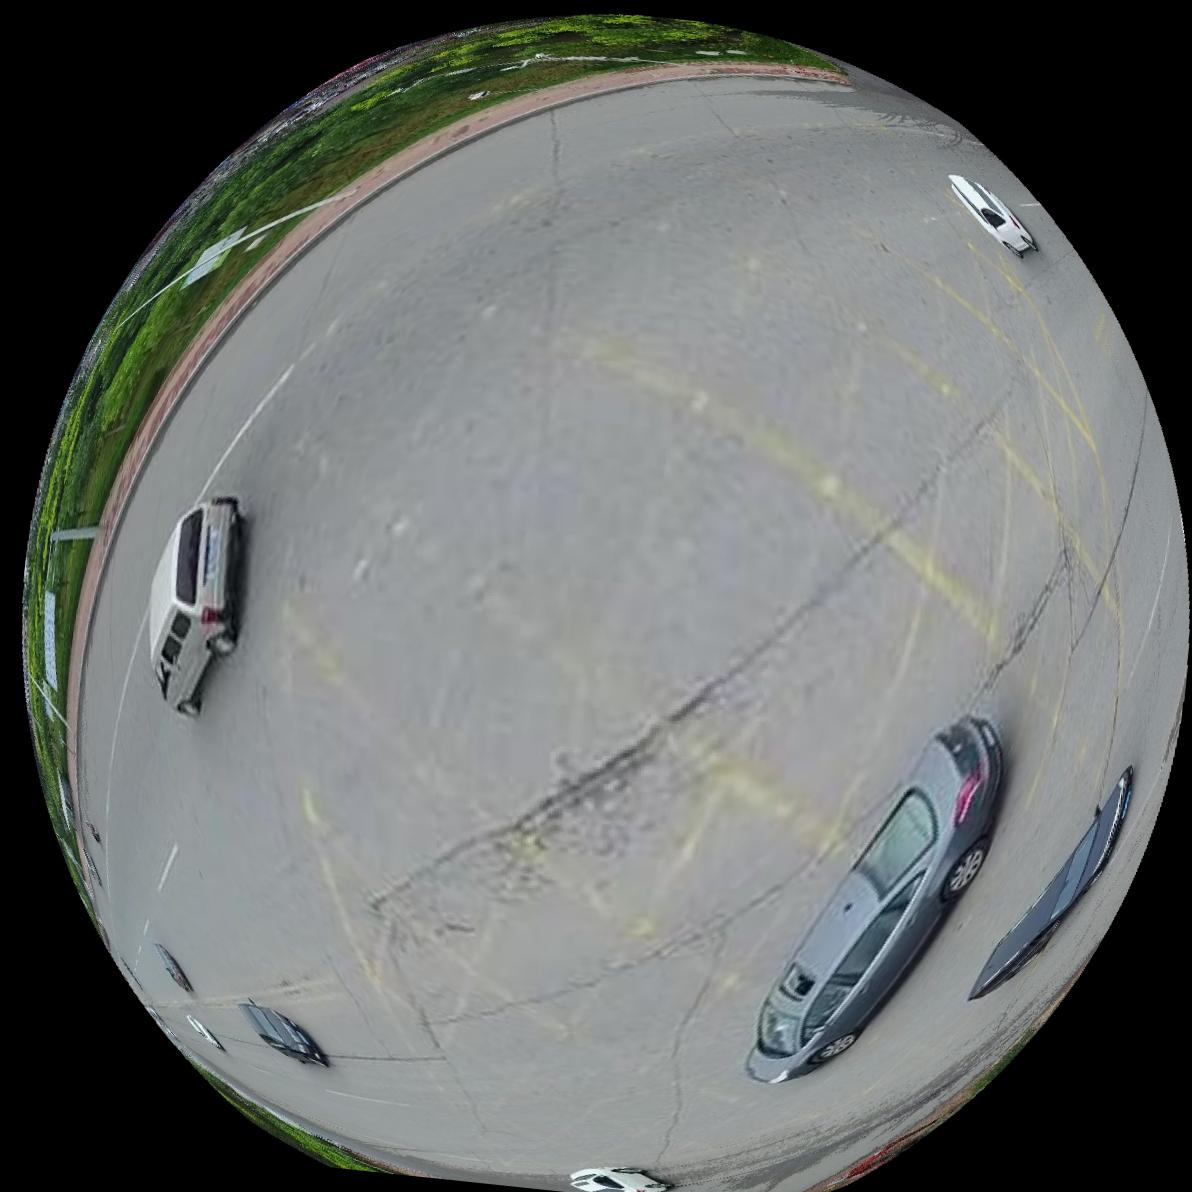cars: (748, 715, 1004, 1085), (973, 767, 1135, 1002), (147, 494, 241, 717), (952, 171, 1039, 254), (252, 1005, 327, 1066), (570, 1168, 670, 1192), (147, 940, 191, 994), (186, 1015, 223, 1051)
trees: (23, 13, 833, 907), (206, 1076, 414, 1176)
